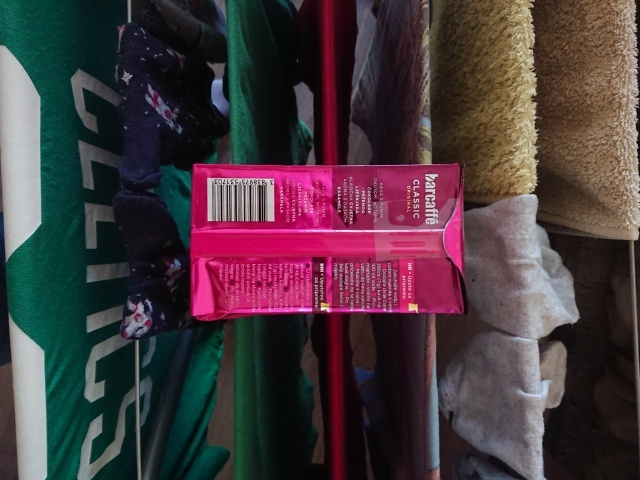Barcaffe Classic Original 225g: (186, 159, 472, 323)
